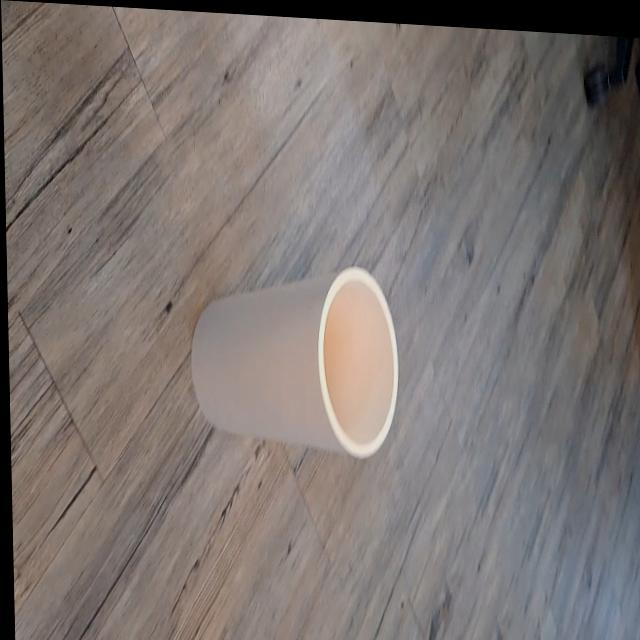CORAL: (155, 214, 419, 509)
